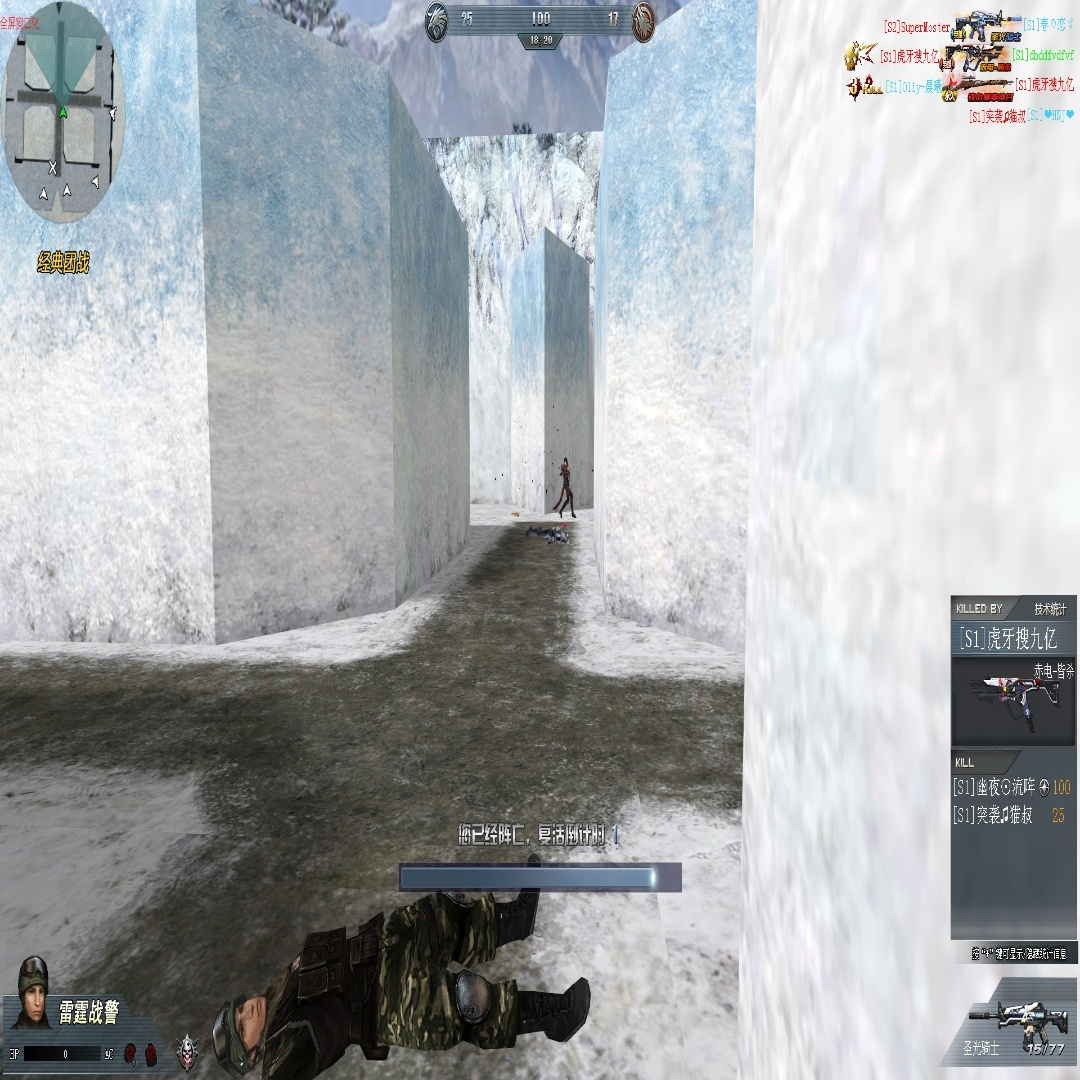head: (563, 456, 568, 468)
t: (552, 456, 576, 519)
